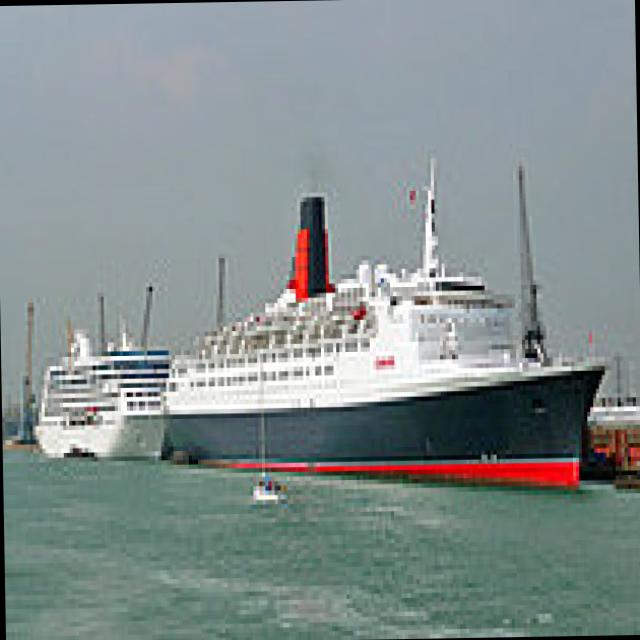boat: (152, 224, 595, 526), (42, 335, 179, 472)
